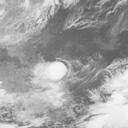cyclone: (35, 61, 70, 89)
